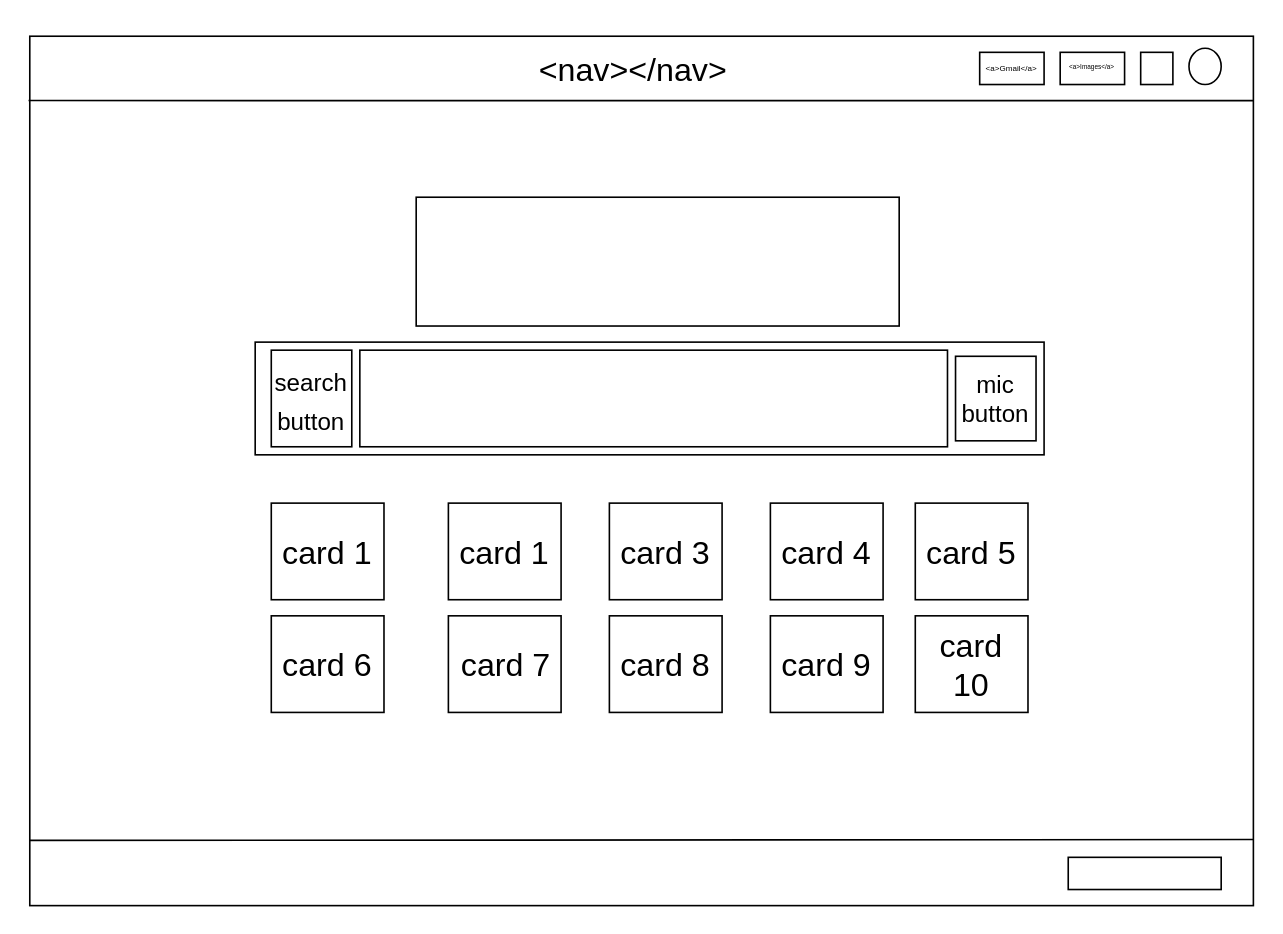
Some shapes in this 1283 by 934 pixel diagram are drawn without their labels. The shapes that lost their labels are listed below. From the top down, each one's centre as x and y in pixels, then its label:
At (1156,68): "<i> icon </i>".
At (1204,66): "<img>".
At (657,261): "<div>Google</div>".
At (652,398): "<input>".
At (1144,873): "<button></button>".
